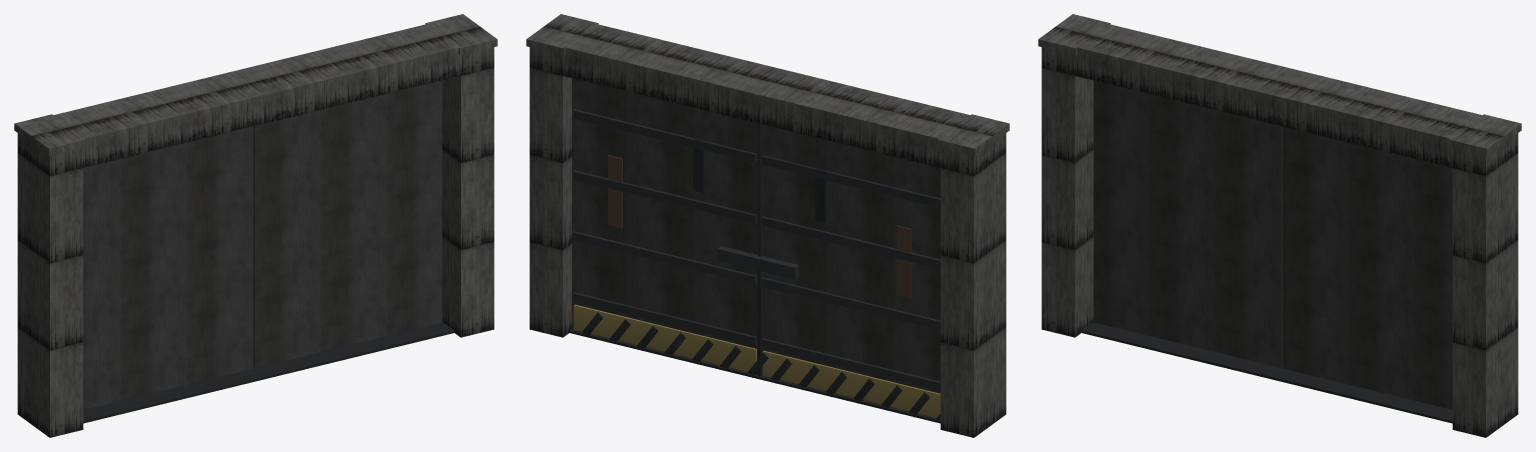
Rendered from mvidia_gate.glb.
The picture shows the model from 3 angles, left to right: view 1: azimuth 30°, elevation 25°; view 2: azimuth 150°, elevation 25°; view 3: azimuth 330°, elevation 25°; orthographic projection.
Parts seen in each view (by area): view 1: mvidia_gate__surface_metal, mvidia_gate__surface_concrete, mvidia_gate; view 2: mvidia_gate__surface_metal, mvidia_gate__surface_concrete, mvidia_gate; view 3: mvidia_gate__surface_metal, mvidia_gate__surface_concrete, mvidia_gate.
Boxes of the visible parts, x1,y1,x2,y2 form: mvidia_gate__surface_metal: (83, 81, 442, 409); mvidia_gate__surface_concrete: (14, 14, 497, 437); mvidia_gate: (83, 322, 454, 423); mvidia_gate__surface_metal: (572, 78, 940, 418); mvidia_gate__surface_concrete: (526, 14, 1009, 437); mvidia_gate: (569, 109, 940, 423); mvidia_gate__surface_metal: (1093, 81, 1452, 409); mvidia_gate__surface_concrete: (1038, 14, 1521, 437); mvidia_gate: (1081, 322, 1452, 423).
Bounding box in the file's own units: 8.08 × 5.01 × 1.08.
3 materials, 2 textured.
